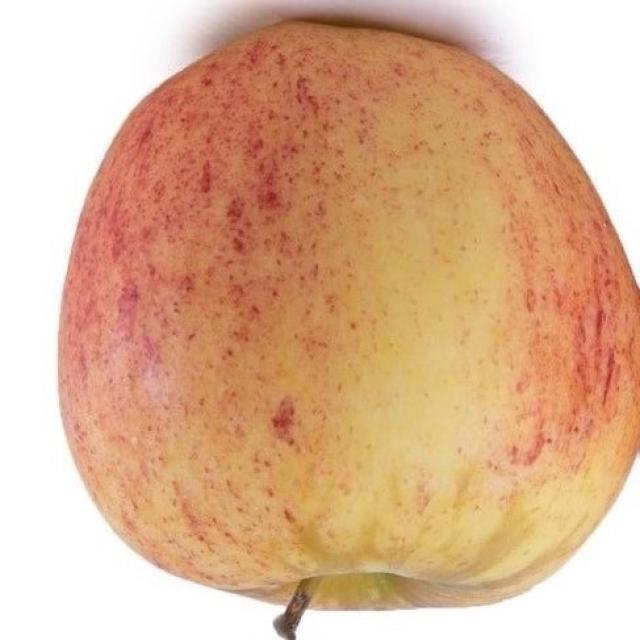75-_ripeness: (58, 22, 640, 605)
